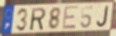3: (16, 7, 30, 32)
5: (79, 5, 93, 29)
8: (47, 6, 61, 31)
E: (61, 5, 80, 31)
J: (95, 5, 110, 28)
R: (30, 7, 47, 32)
